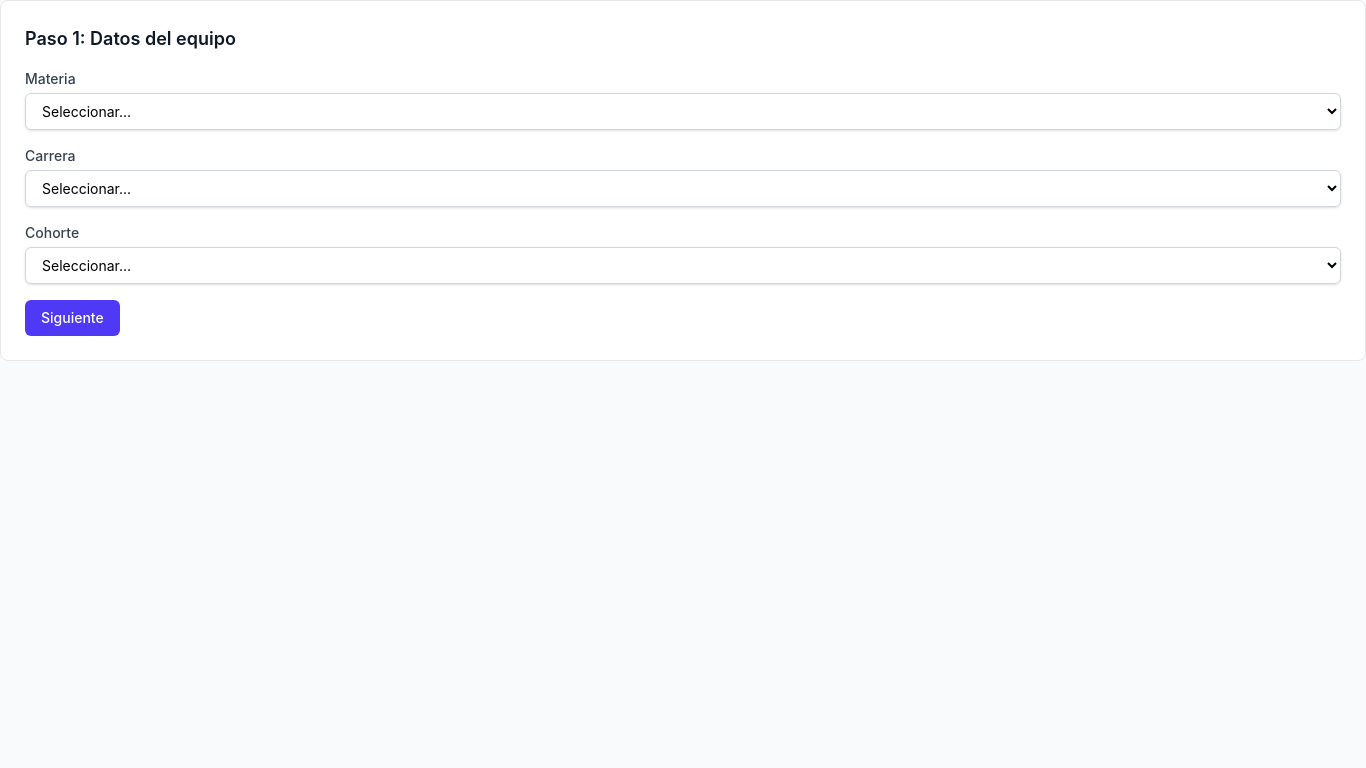
Test: AsignacionMasivaForm › shows validation errors on empty submit in step 2
The width and height of the screenshot is (1366, 768).
Step 1. Click the button "Siguiente" → (72, 318), box [25, 300, 120, 336]
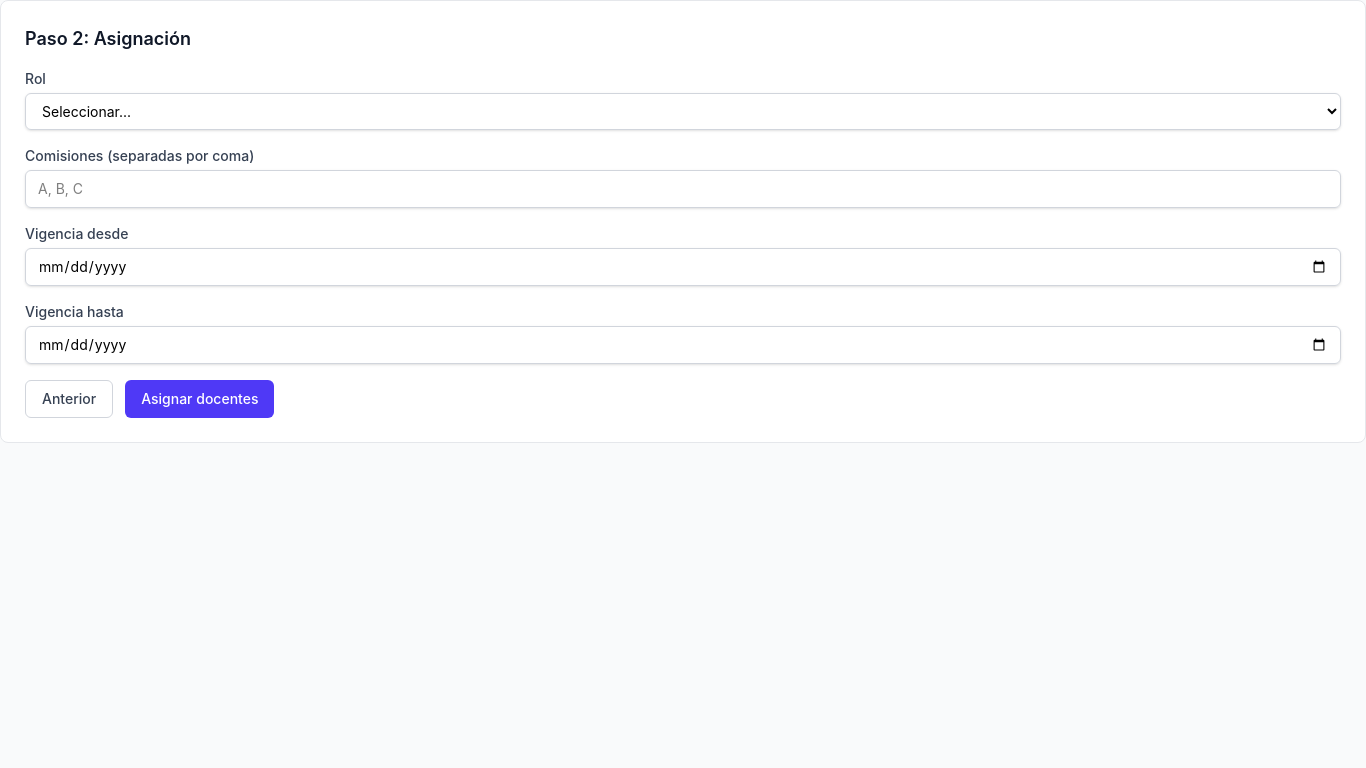
Step 2. Click the button "Asignar docentes" → (200, 399), box [125, 380, 274, 418]
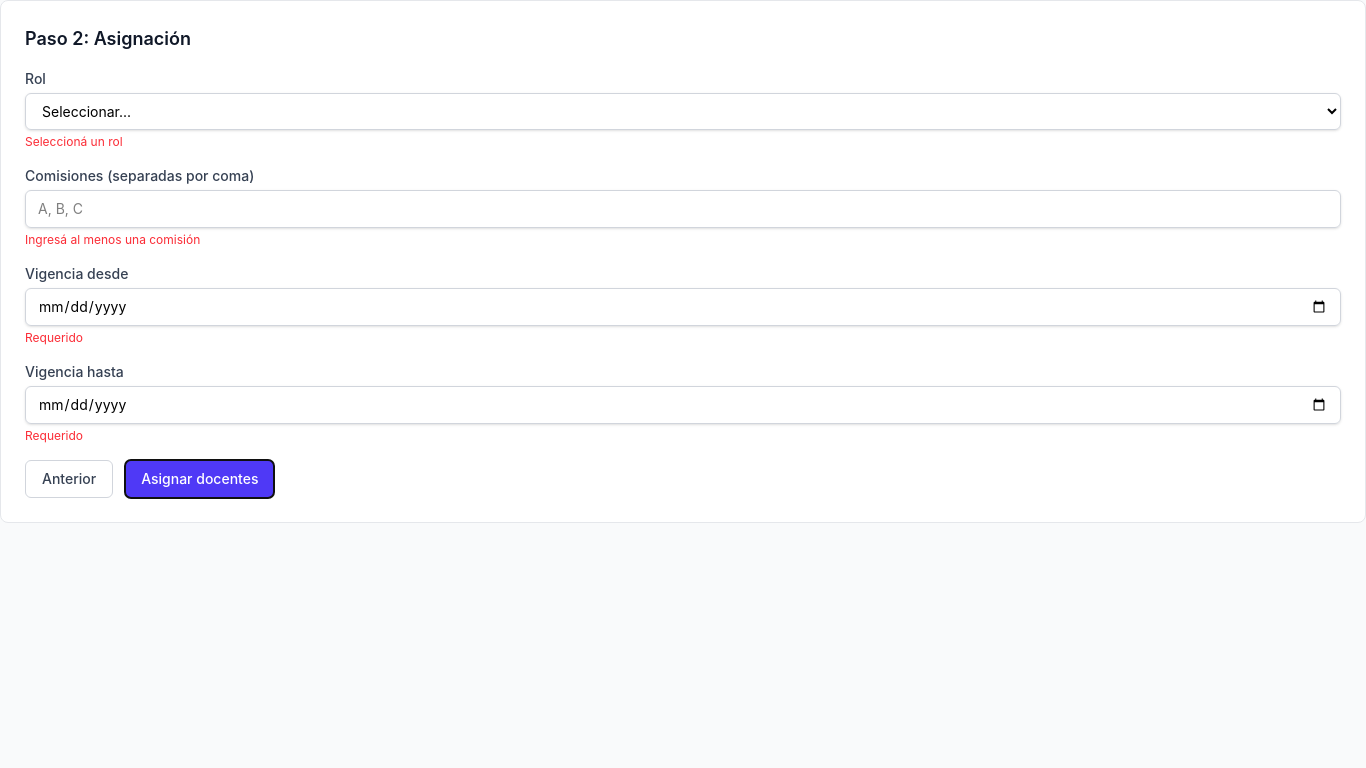
expect the text "Seleccioná un rol" is shown: met, box [25, 134, 123, 149]
